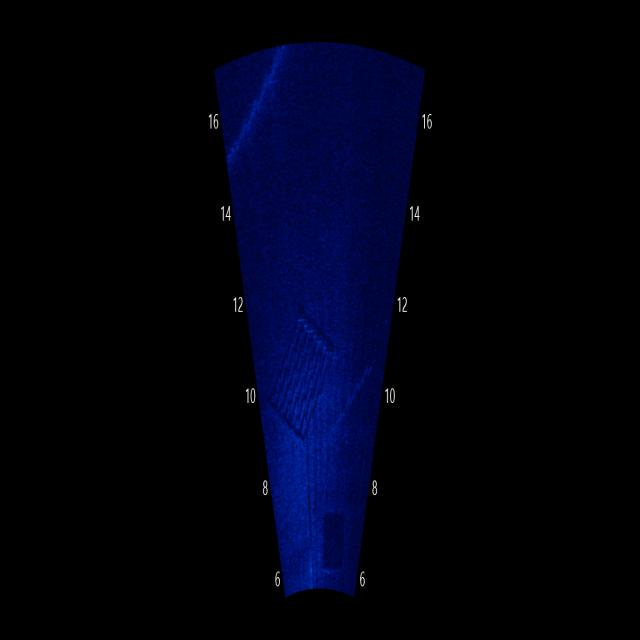square: (267, 299, 338, 449), (312, 501, 353, 578)
